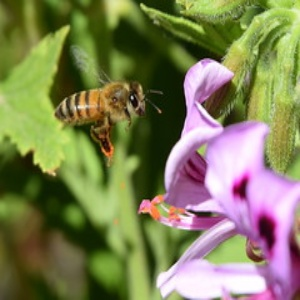bee: (52, 42, 165, 171)
